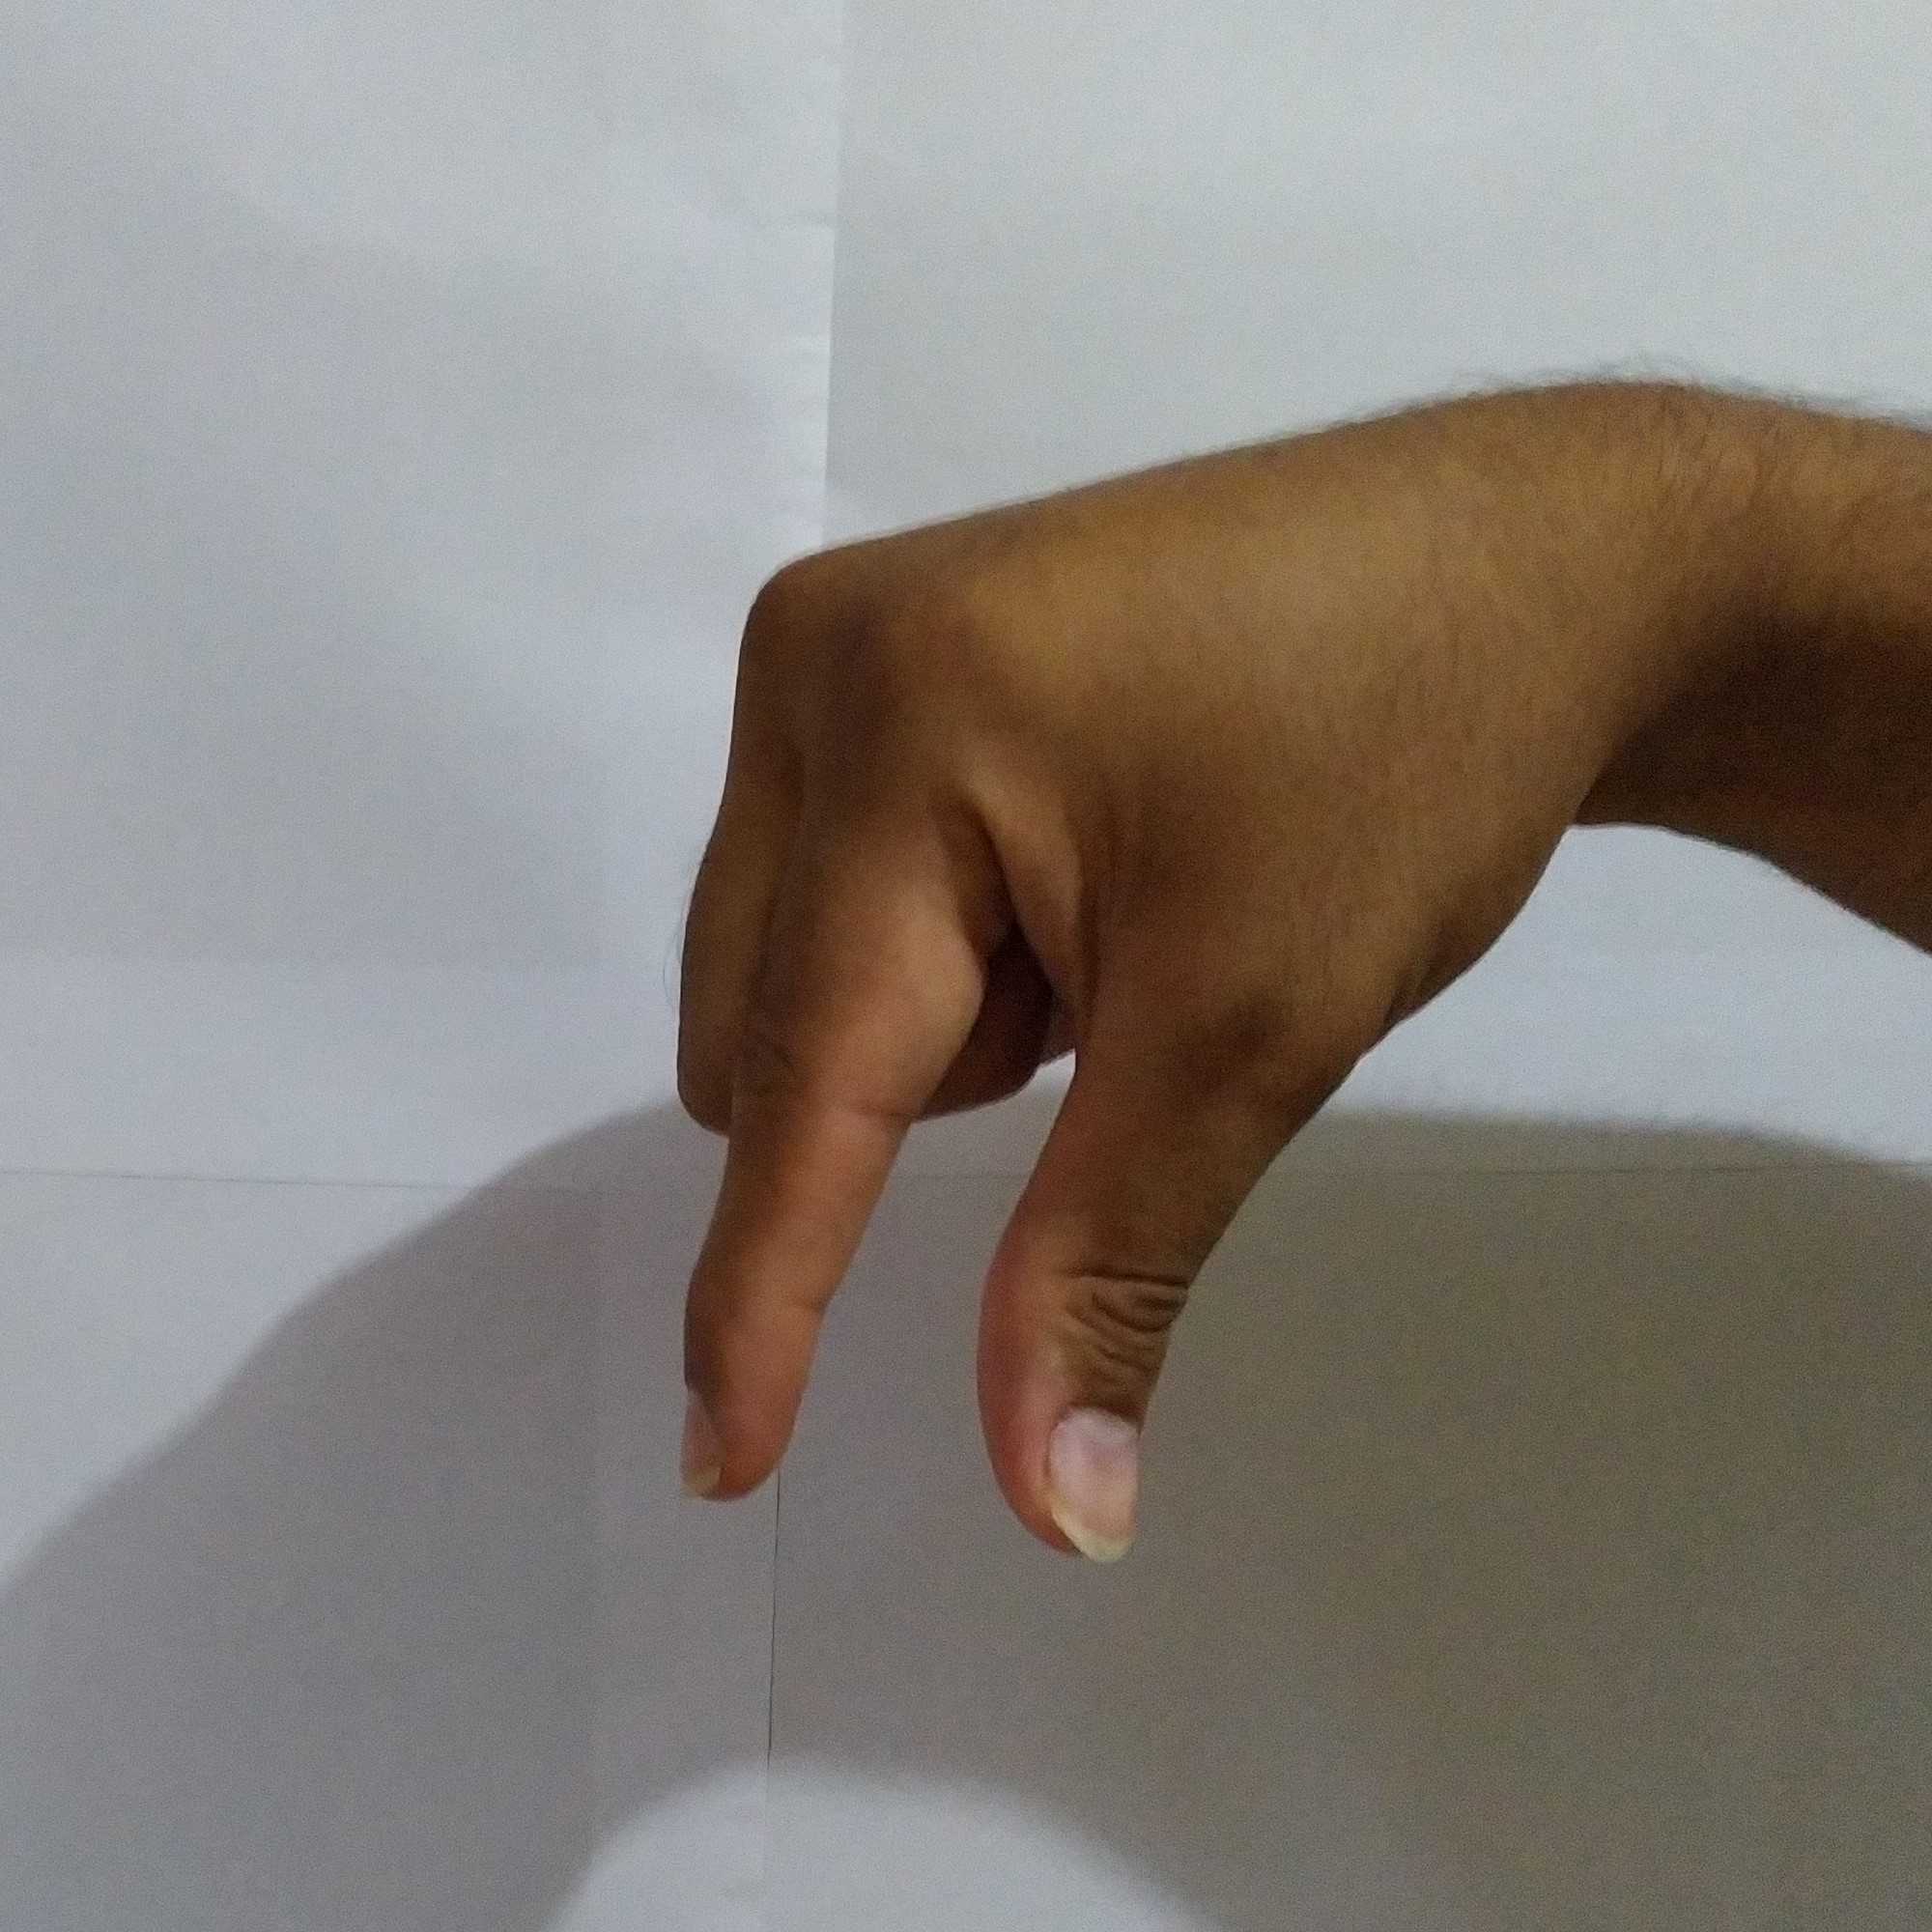Q: (632, 387, 1585, 1599)
